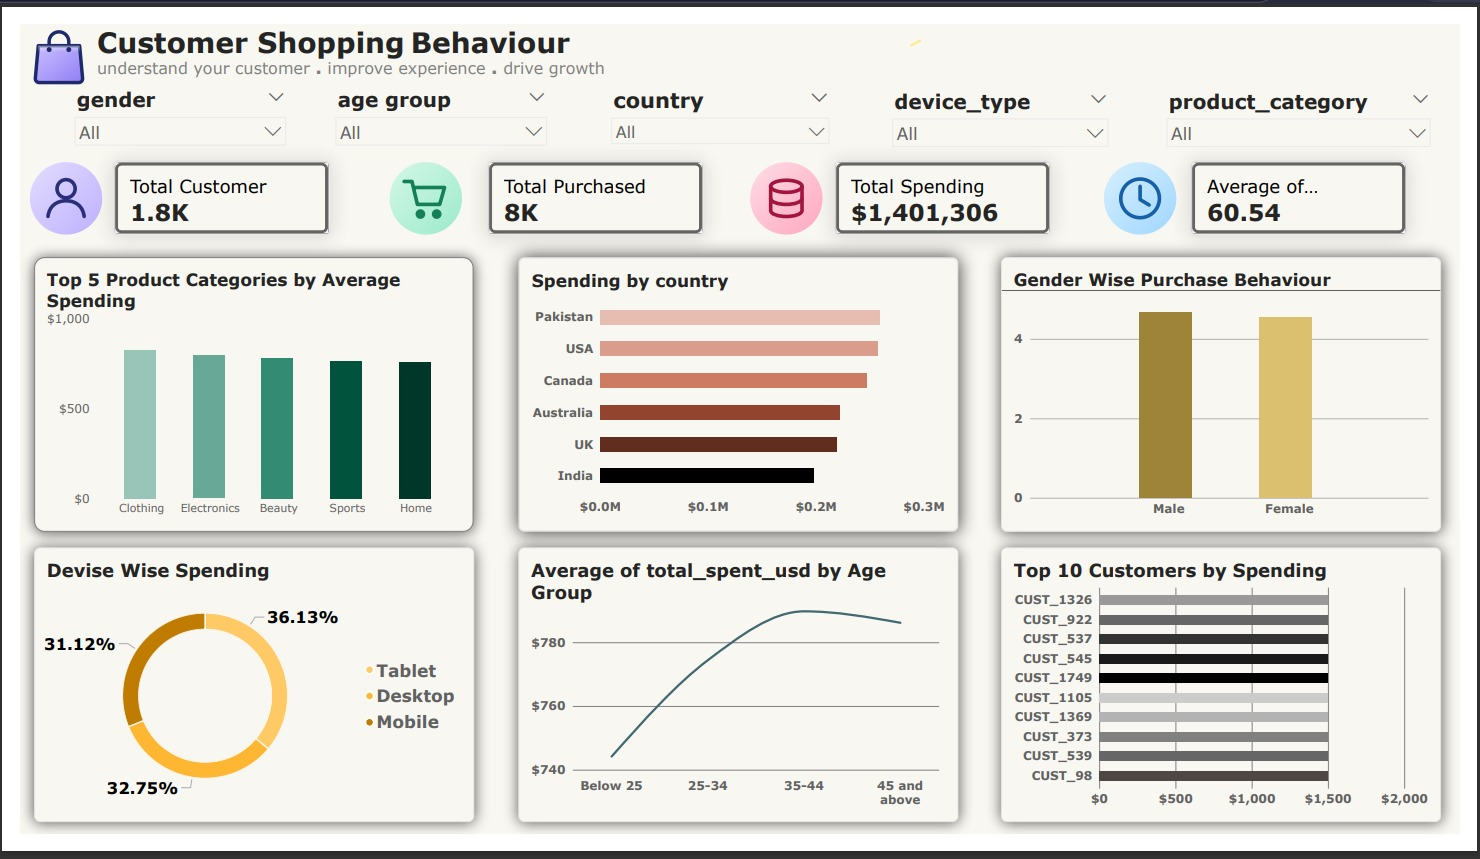

This screenshot's page, from the dashboard's own definition file:
{"tool":"powerbi","page":{"name":"Page 1","canvas":[1920,1080],"ordinal":0},"visuals":[{"type":"textbox","box":[102.9,0,716.3,63.8],"z":0},{"type":"image","box":[0,0,102.9,84.4],"z":1000},{"type":"textbox","box":[102.9,43.2,716.3,41.2],"z":2000},{"type":"slicer","fields":{"Values":["online_shopping_customer_behavior.gender"]},"box":[67.9,84.4,292.3,78.2],"z":3000},{"type":"slicer","fields":{"Values":["online_shopping_customer_behavior.age"]},"box":[415.8,84.4,292.3,78.2],"z":4000},{"type":"slicer","fields":{"Values":["online_shopping_customer_behavior.country"]},"box":[784.2,84.4,300.5,78.2],"z":5000},{"type":"slicer","fields":{"Values":["online_shopping_customer_behavior.device_type"]},"box":[1158.8,86.4,298.5,76.2],"z":6000},{"type":"slicer","fields":{"Values":["online_shopping_customer_behavior.product_category"]},"box":[1525.2,86.4,362.3,76.2],"z":7000},{"type":"cardVisual","fields":{"Data":["Count(online_shopping_customer_behavior.customer_id)"]},"box":[123.5,181.1,292.3,102.9],"z":8000},{"type":"cardVisual","fields":{"Data":["Sum(online_shopping_customer_behavior.items_purchased)"]},"box":[621.6,181.1,292.3,102.9],"z":9000},{"type":"cardVisual","fields":{"Data":["online_shopping_customer_behavior.Total Spending"]},"box":[1084.7,181.1,292.3,102.9],"z":10000},{"type":"cardVisual","fields":{"Data":["Avg(online_shopping_customer_behavior.time_spent_minutes)"]},"box":[1560.2,181.1,292.3,102.9],"z":11000},{"type":"image","box":[0,181.1,123.5,102.9],"z":12000},{"type":"image","box":[461.1,181.1,160.5,102.9],"z":13000},{"type":"image","box":[959.2,181.1,125.6,102.9],"z":14000},{"type":"image","box":[1428.5,181.1,131.7,102.9],"z":15000},{"type":"clusteredColumnChart","title":"Top 5 Product Categories by Average Spending","fields":{"Category":["online_shopping_customer_behavior.product_category"],"Y":["Avg(online_shopping_customer_behavior.total_spent_usd)"]},"box":[18.5,310.8,586.6,366.4],"z":16000},{"type":"clusteredBarChart","title":"Spending by country","fields":{"Category":["online_shopping_customer_behavior.country"],"Y":["Sum(online_shopping_customer_behavior.total_spent_usd)"]},"box":[664.8,310.8,587,366],"z":17000},{"type":"lineClusteredColumnComboChart","title":"Gender Wise Purchase Behaviour","fields":{"Category":["online_shopping_customer_behavior.gender"],"Y":["Avg(online_shopping_customer_behavior.items_purchased)"]},"box":[1309.1,310.8,587,366],"z":18000},{"type":"donutChart","title":"Devise Wise Spending","fields":{"Category":["online_shopping_customer_behavior.device_type"],"Y":["Sum(online_shopping_customer_behavior.total_spent_usd)"]},"box":[18.5,697.8,587,366],"z":18001},{"type":"lineChart","fields":{"Category":["online_shopping_customer_behavior.Age Group"],"Y":["Avg(online_shopping_customer_behavior.total_spent_usd)"]},"box":[665,698,587,366],"z":18002},{"type":"clusteredBarChart","title":"Top 10 Customers by Spending","fields":{"Category":["online_shopping_customer_behavior.customer_id"],"Y":["Sum(online_shopping_customer_behavior.total_spent_usd)"]},"box":[1309,698,587,366],"z":18003}]}

Visuals, with their boxes on the page's 1920x1080 design canvas (x1, y1, x2, y2). These are canvas units, not pixel positions in the 1480x859 screenshot, which may show the page scaled, cropped or inside an application window:
textbox: [103, 0, 819, 64]
image: [0, 0, 103, 84]
textbox: [103, 43, 819, 84]
slicer - online_shopping_customer_behavior.gender: [68, 84, 360, 163]
slicer - online_shopping_customer_behavior.age: [416, 84, 708, 163]
slicer - online_shopping_customer_behavior.country: [784, 84, 1085, 163]
slicer - online_shopping_customer_behavior.device_type: [1159, 86, 1457, 163]
slicer - online_shopping_customer_behavior.product_category: [1525, 86, 1888, 163]
cardVisual - Count(online_shopping_customer_behavior.customer_id): [124, 181, 416, 284]
cardVisual - Sum(online_shopping_customer_behavior.items_purchased): [622, 181, 914, 284]
cardVisual - online_shopping_customer_behavior.Total Spending: [1085, 181, 1377, 284]
cardVisual - Avg(online_shopping_customer_behavior.time_spent_minutes): [1560, 181, 1852, 284]
image: [0, 181, 124, 284]
image: [461, 181, 622, 284]
image: [959, 181, 1085, 284]
image: [1428, 181, 1560, 284]
"Top 5 Product Categories by Average Spending" clusteredColumnChart: [18, 311, 605, 677]
"Spending by country" clusteredBarChart: [665, 311, 1252, 677]
"Gender Wise Purchase Behaviour" lineClusteredColumnComboChart: [1309, 311, 1896, 677]
"Devise Wise Spending" donutChart: [18, 698, 606, 1064]
lineChart - online_shopping_customer_behavior.Age Group x Avg(online_shopping_customer_behavior.total_spent_usd): [665, 698, 1252, 1064]
"Top 10 Customers by Spending" clusteredBarChart: [1309, 698, 1896, 1064]
